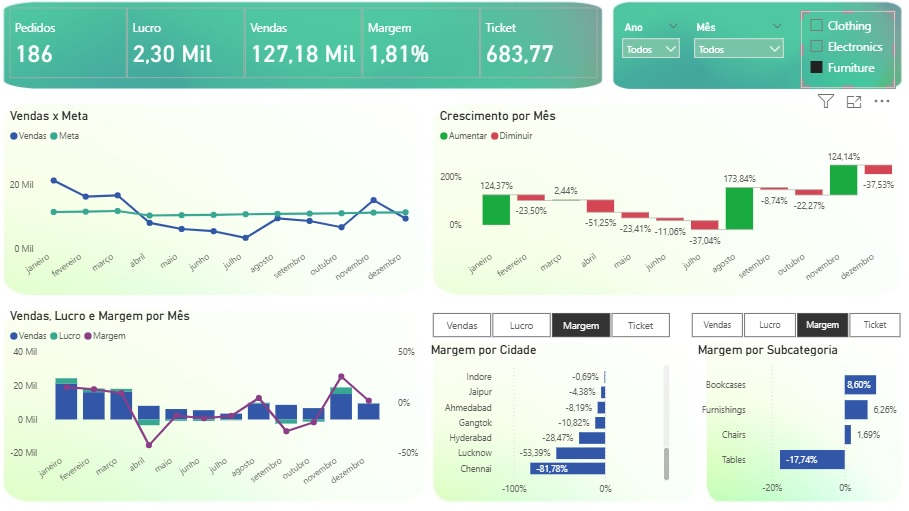

The dashboard page shown, as its layout file describes it:
{"tool":"powerbi","page":{"name":"Página 1","canvas":[1280,720],"ordinal":0},"visuals":[{"type":"cardVisual","fields":{"Data":["medidas.Pedidos","medidas.Lucro","medidas.Vendas","medidas.Margem","medidas.Ticket Medio"]},"box":[24.8,15.1,823.1,107.4],"z":0},{"type":"slicer","fields":{"Values":["calendario.Ano"]},"box":[863,34.4,99.1,86.7],"z":1000},{"type":"slicer","fields":{"Values":["calendario.Nome Mes"]},"box":[962.1,34.4,143.1,158.3],"z":2000},{"type":"slicer","fields":{"Values":["metas.category"]},"box":[1119,24.8,129.4,106],"z":3000},{"type":"lineChart","title":"Vendas x Meta","fields":{"Category":["calendario.Data.Variation.Hierarquia de datas.Ano","calendario.Data.Variation.Hierarquia de datas.Mês"],"Y":["medidas.Vendas","Sum(metas.target)"]},"box":[24.8,158.3,572.6,260.1],"z":4000},{"type":"lineStackedColumnComboChart","fields":{"Category":["calendario.Data.Variation.Hierarquia de datas.Ano","calendario.Data.Variation.Hierarquia de datas.Mês"],"Y":["medidas.Vendas","medidas.Lucro"],"Y2":["medidas.Margem"]},"box":[24.8,433.5,572.6,265.6],"z":5000},{"type":"waterfallChart","fields":{"Category":["calendario.Ano Mes.Variation.Hierarquia de datas.Mês"],"Y":["medidas.Crescimento"]},"box":[616.6,158.3,652.4,260.1],"z":6000},{"type":"clusteredBarChart","fields":{"Y":["medidas.Vendas"],"Category":["clientes.city"]},"box":[604.2,480.3,338.6,220.2],"z":7000},{"type":"slicer","fields":{"Values":["Selecao Cidade.Selecao Cidade"]},"box":[586.3,433.5,375.7,46.8],"z":8000},{"type":"clusteredBarChart","fields":{"Y":["medidas.Vendas"],"Category":["vendas.subcategory"]},"box":[971.7,480.3,294.5,218.8],"z":9000},{"type":"slicer","fields":{"Values":["Selecao Subcategoria.Selecao Subcategoria"]},"box":[942.8,433.5,337.2,46.8],"z":10000}]}

Visuals, with their boxes in screenshot pixels (x1, y1, x2, y2), scaled from the page's 1280x720 canvas onto the 909x511 screenshot:
cardVisual - medidas.Pedidos x medidas.Lucro: bbox=[18, 11, 602, 87]
slicer - calendario.Ano: bbox=[613, 24, 683, 86]
slicer - calendario.Nome Mes: bbox=[683, 24, 785, 137]
slicer - metas.category: bbox=[795, 18, 887, 93]
"Vendas x Meta" lineChart: bbox=[18, 112, 424, 297]
lineStackedColumnComboChart - calendario.Data.Variation.Hierarquia de datas.Ano x calendario.Data.Variation.Hierarquia de datas.Mês: bbox=[18, 308, 424, 496]
waterfallChart - calendario.Ano Mes.Variation.Hierarquia de datas.Mês x medidas.Crescimento: bbox=[438, 112, 901, 297]
clusteredBarChart - medidas.Vendas x clientes.city: bbox=[429, 341, 670, 497]
slicer - Selecao Cidade.Selecao Cidade: bbox=[416, 308, 683, 341]
clusteredBarChart - medidas.Vendas x vendas.subcategory: bbox=[690, 341, 899, 496]
slicer - Selecao Subcategoria.Selecao Subcategoria: bbox=[670, 308, 908, 341]
